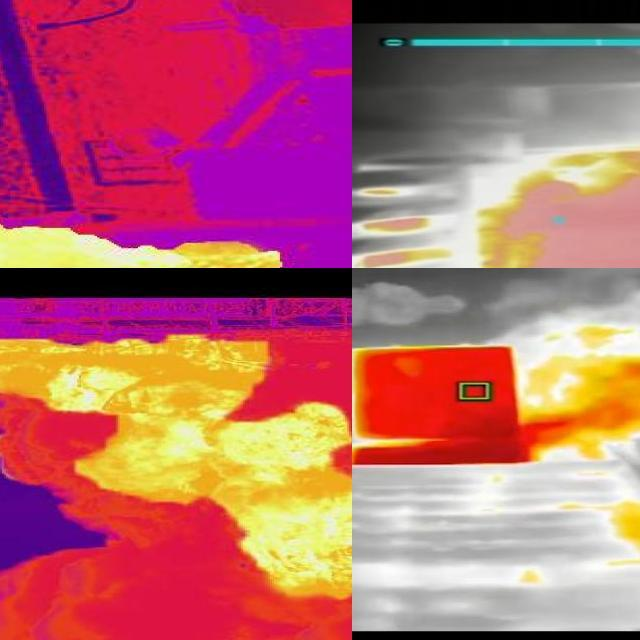fire: (2, 327, 353, 605), (472, 71, 640, 270), (520, 338, 640, 462), (1, 225, 291, 268)
